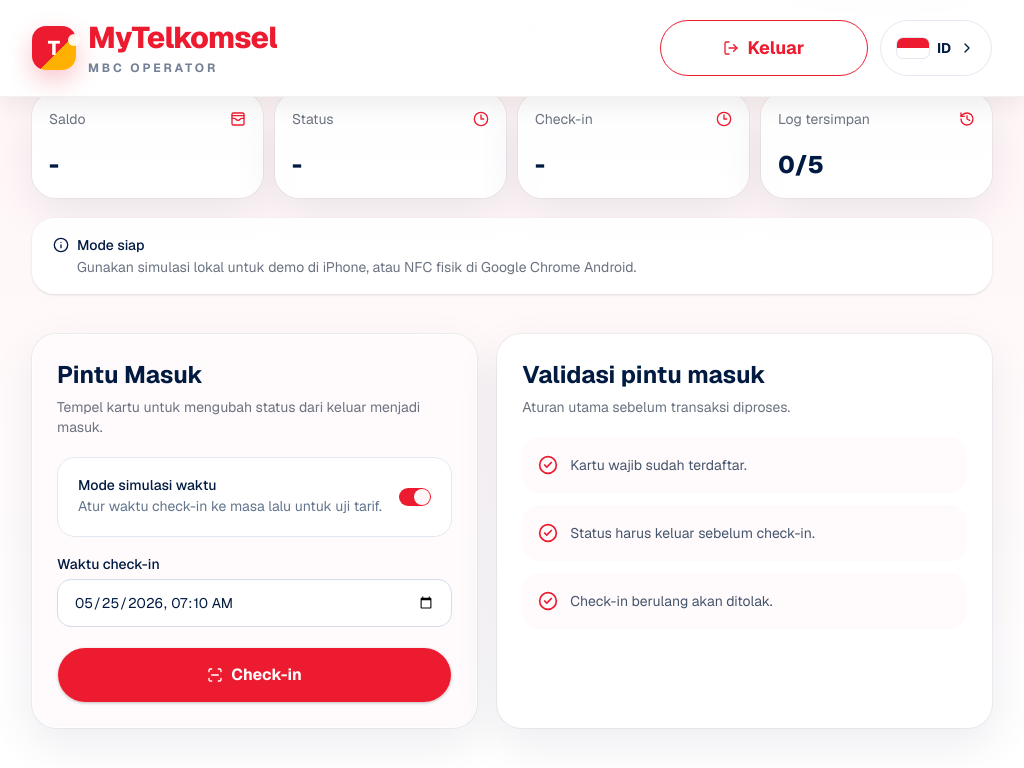
Scenario: MbcApp role UI › automatically writes physical NFC updates after reading a card
This screenshot has width=1024, height=768.
(page scrolled)
Expected: the text "Pintu Masuk" is shown, [57,359,203,390]
Click the button "Check-in" at (255, 675), box [57,647,452,703]
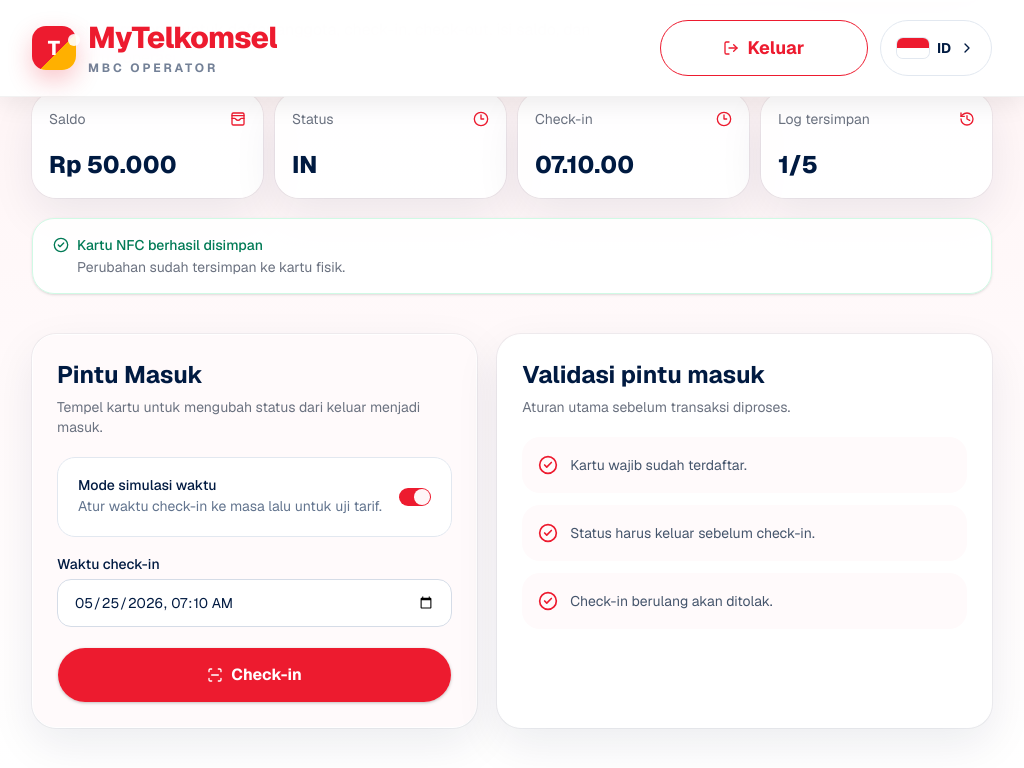
Expected: the text "Kartu NFC berhasil disimpan" is shown, [77,236,263,254]
